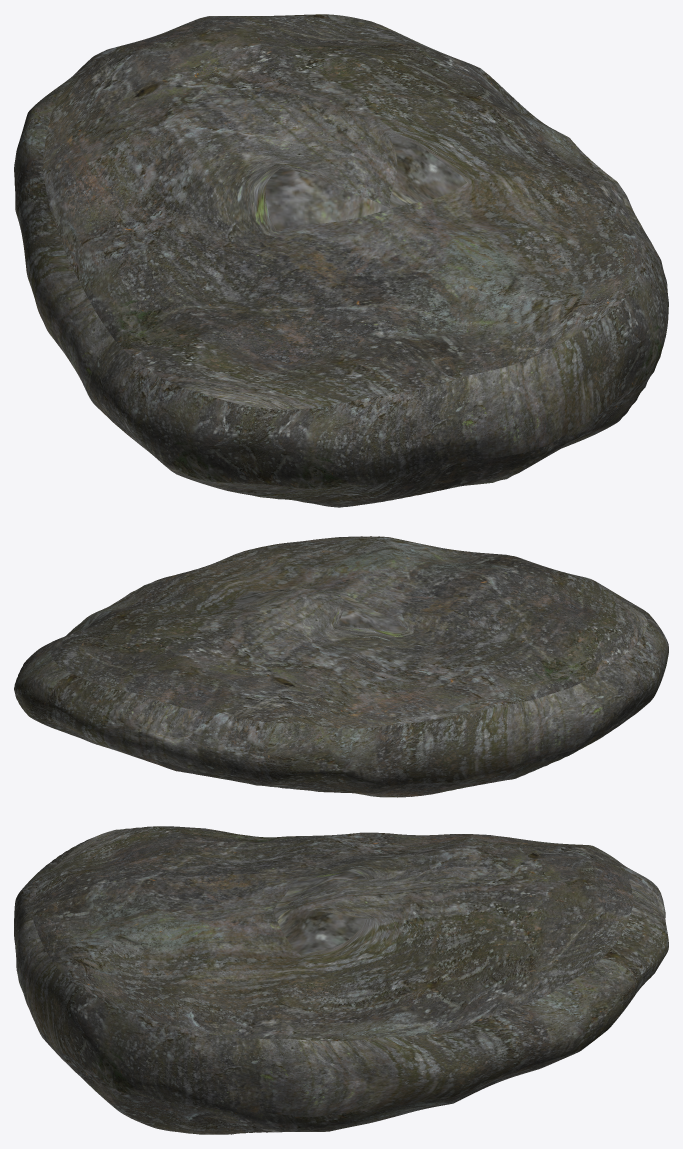
The model's file is rocks_slab01.gltf.
The picture shows the model from 3 angles, top to bottom: view 1: azimuth 30°, elevation 25°; view 2: azimuth 150°, elevation 25°; view 3: azimuth 270°, elevation 25°; orthographic projection. The views are drawn at different scales.
Visible parts, largest first — view 1: rock_slab02; view 2: rock_slab02; view 3: rock_slab02.
Part boxes in pixels (left/top/right/bottom): rock_slab02: left=14, top=14, right=668, bottom=507; rock_slab02: left=14, top=536, right=668, bottom=797; rock_slab02: left=14, top=826, right=668, bottom=1134.
Size of the model in its own units: 6.61 by 2.74 by 7.65.
Materials: 1 (1 with a texture image).
